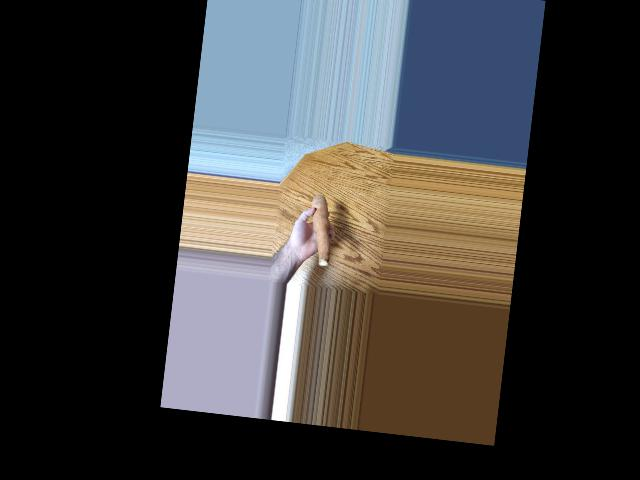sweet_potato: (307, 189, 337, 264)
